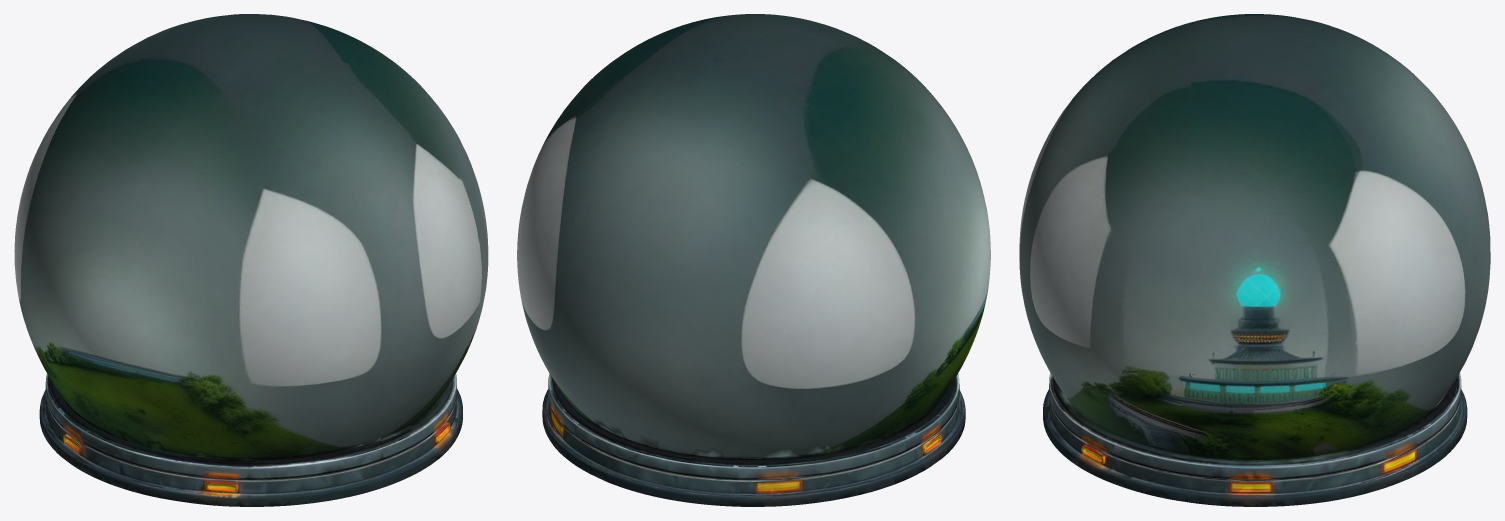
File: hero-sky-dome.glb
3 views of the same model, side by side, from view 1: azimuth 30°, elevation 25°; view 2: azimuth 150°, elevation 25°; view 3: azimuth 270°, elevation 25° (orthographic).
Visible parts, largest first — view 1: node_0; view 2: node_0; view 3: node_0.
Boxes of the visible parts, <box> form: node_0: <box>14,14,488,506</box>; node_0: <box>517,14,990,506</box>; node_0: <box>1019,14,1490,506</box>.
Size of the model in its own units: 0.9481 by 0.8465 by 0.9477.
1 material, 1 textured.
